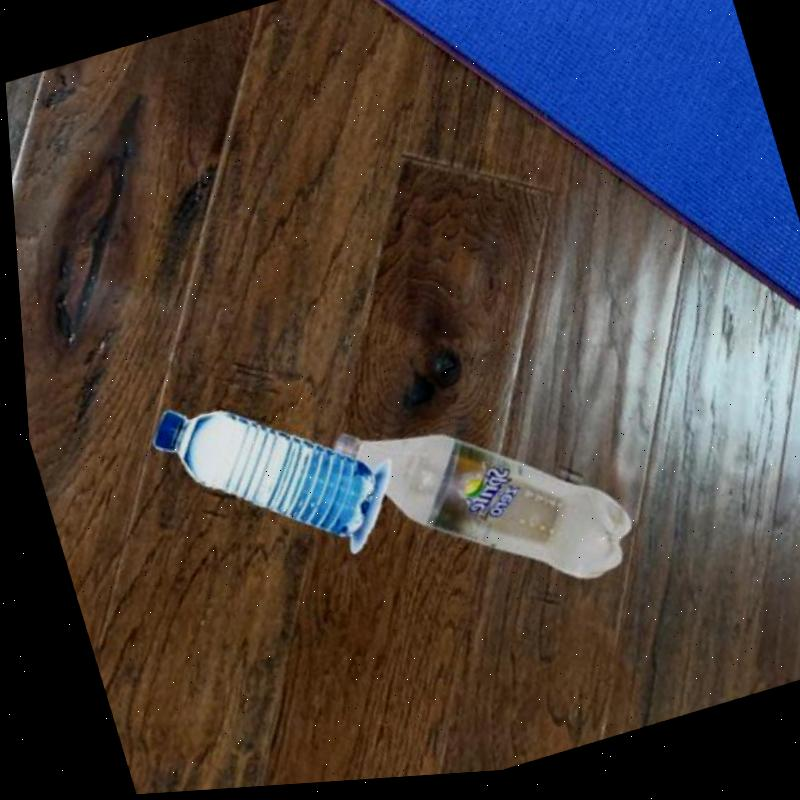botella: (317, 362, 639, 652), (135, 357, 382, 590)
